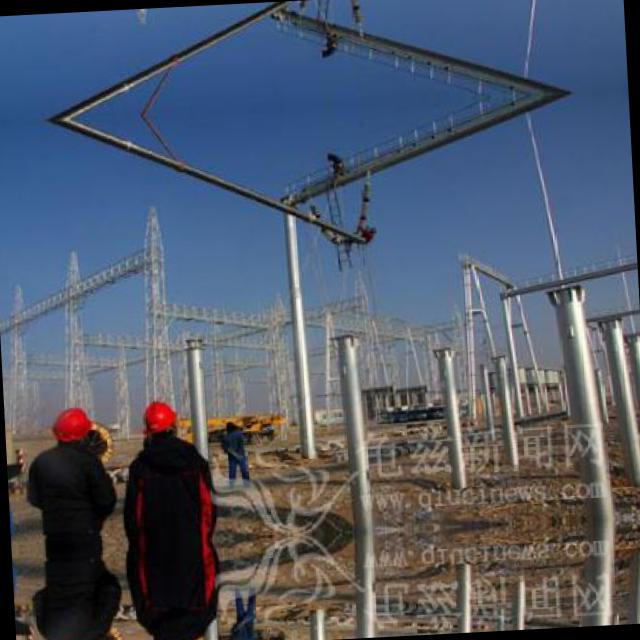helmet: (51, 404, 98, 451), (142, 398, 180, 441)
